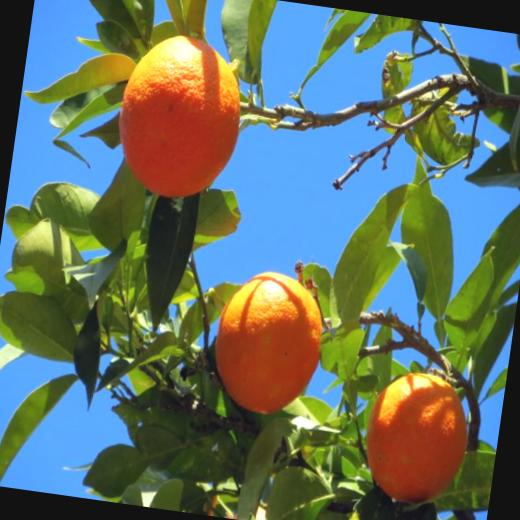Grape: (107, 27, 250, 206), (108, 28, 249, 206), (206, 264, 332, 420), (207, 266, 331, 420), (358, 364, 477, 512), (359, 366, 475, 508)
